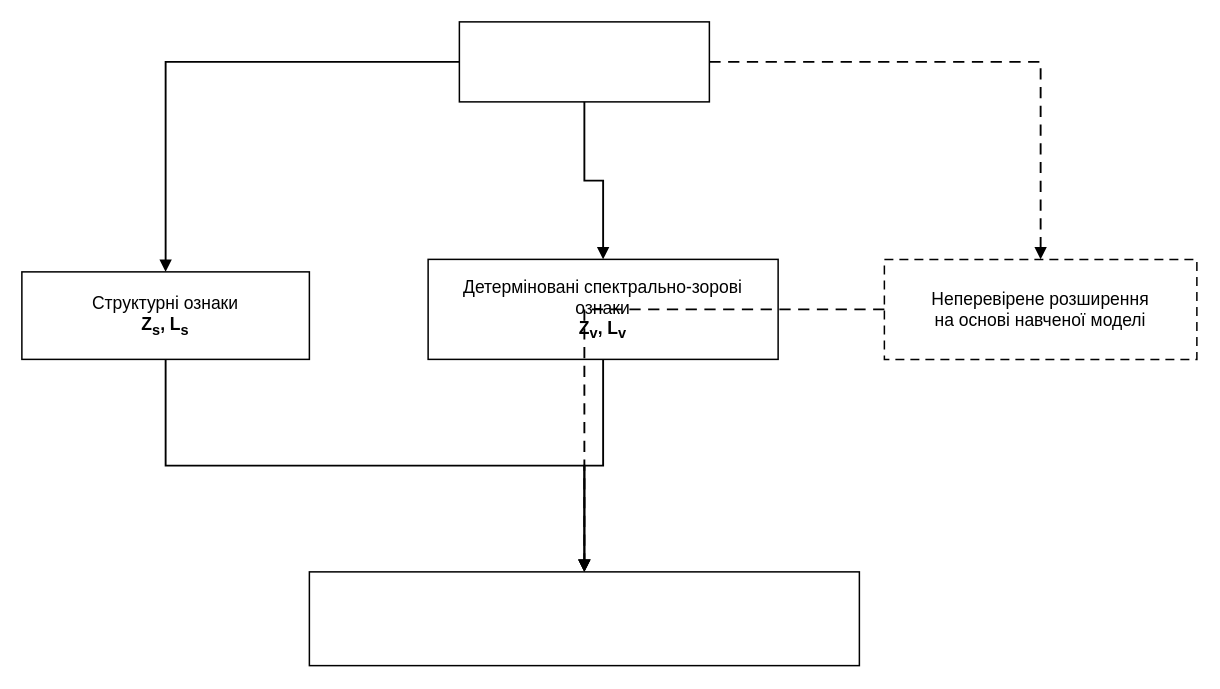
The diagram is 1220 pixels wide and 689 high, and some of its shapes have lost their labels. Here are the shapes that lost their labels. From the top down, the box of each, then its label:
(458, 20, 709, 102): Статичні дані X c
(308, 570, 860, 666): Статичний опис H=⟨Z v ,Z s ,ρ v ,ρ s ,L v ,L s ,m c ,C H ⟩
